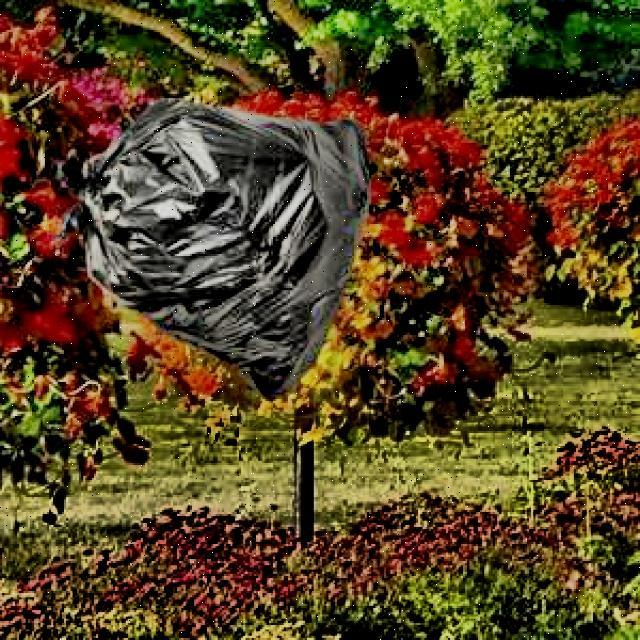Trashbag: (52, 98, 390, 384)
